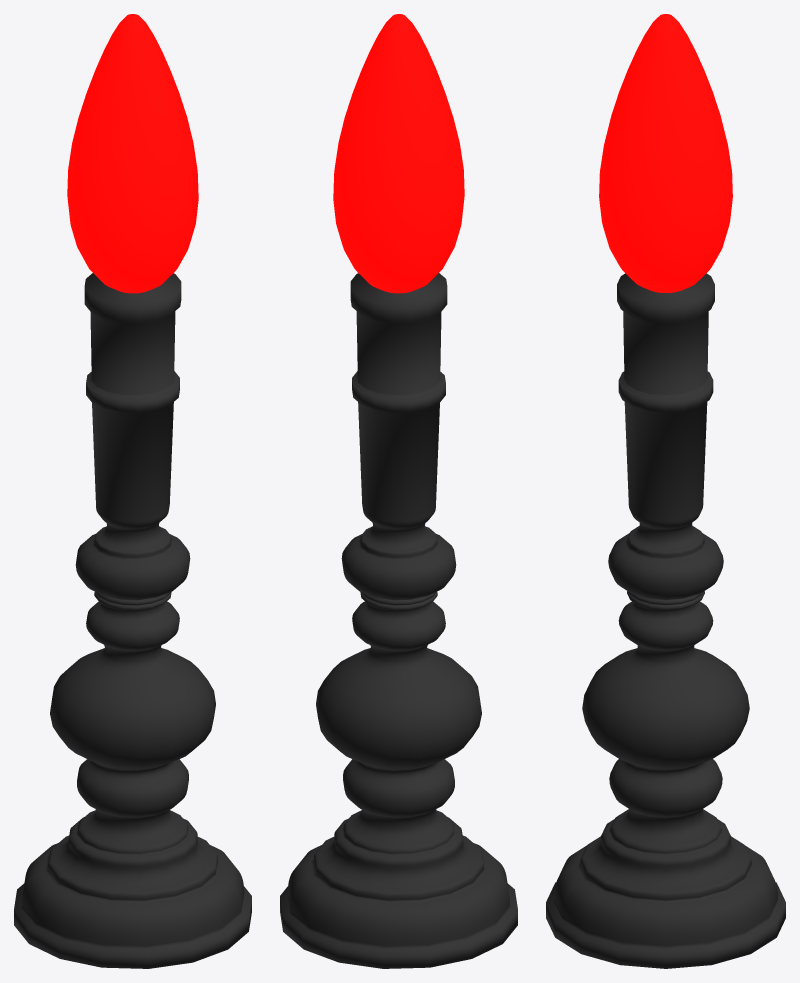
3 renders of one model, left to right at view 1: azimuth 30°, elevation 25°; view 2: azimuth 150°, elevation 25°; view 3: azimuth 270°, elevation 25°, orthographic.
Visible parts, largest first — view 1: XD-红烛; view 2: XD-红烛; view 3: XD-红烛.
Part boxes in pixels (<box>): XD-红烛: <box>14,14,251,968</box>; XD-红烛: <box>280,14,517,968</box>; XD-红烛: <box>546,14,785,968</box>.
Size of the model in its own units: 0.0739 by 0.0739 by 0.3073.
